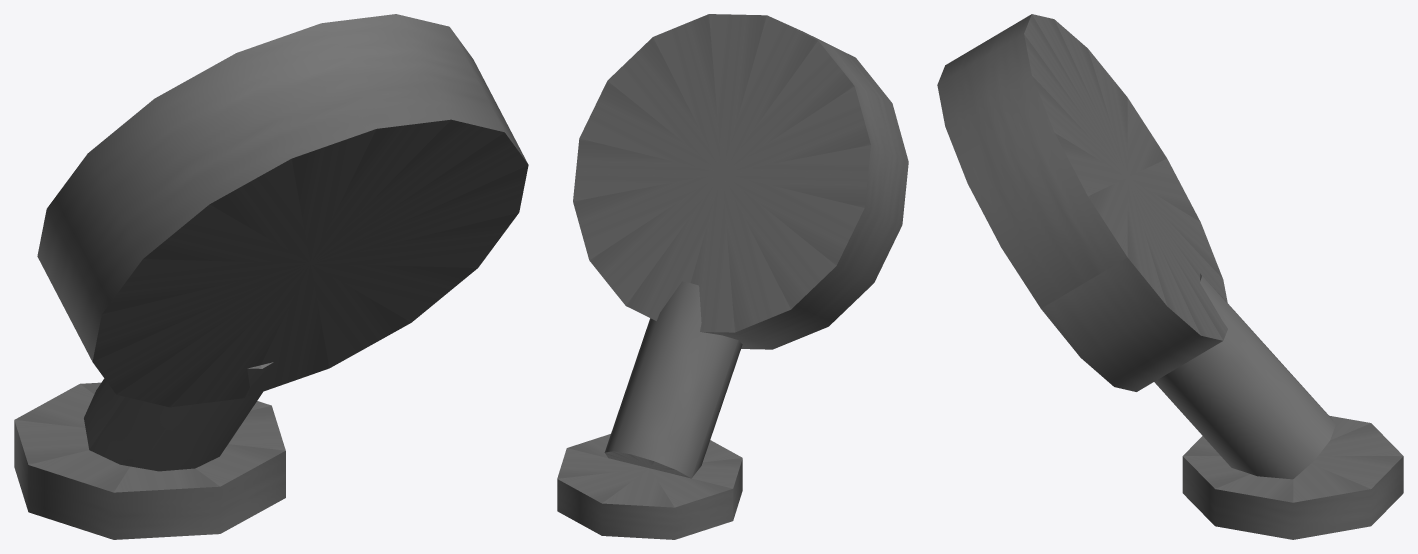
File: mastarmcurve_6x2_c0_thin_down.obj
3 views of the same model, side by side, from view 1: azimuth 30°, elevation 25°; view 2: azimuth 150°, elevation 25°; view 3: azimuth 270°, elevation 25° (orthographic). The views are drawn at different scales.
Visible parts, largest first — view 1: mastarm_6x2_c0_thin_down; view 2: mastarm_6x2_c0_thin_down; view 3: mastarm_6x2_c0_thin_down.
Boxes of the visible parts, box(x1,y1,x2,y2) form: mastarm_6x2_c0_thin_down: box(14, 14, 528, 539); mastarm_6x2_c0_thin_down: box(557, 14, 908, 539); mastarm_6x2_c0_thin_down: box(937, 14, 1403, 539).
Size of the model in its own units: 0.686 by 0.9182 by 0.8443.
